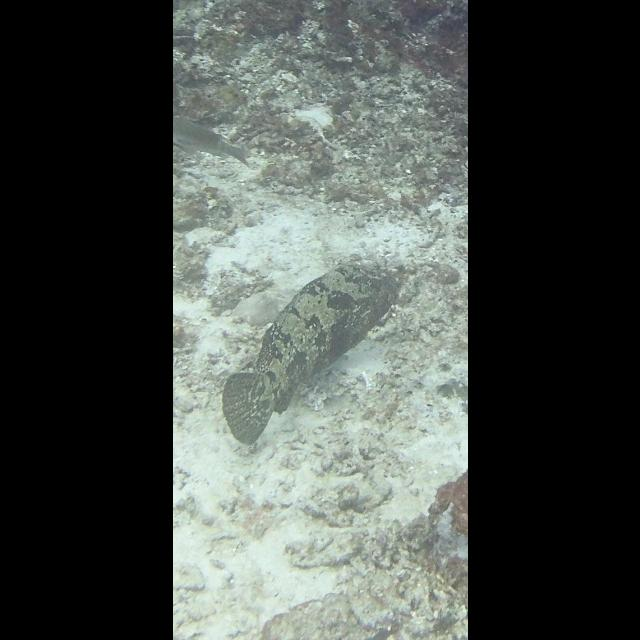Groupers: (220, 260, 402, 446)
